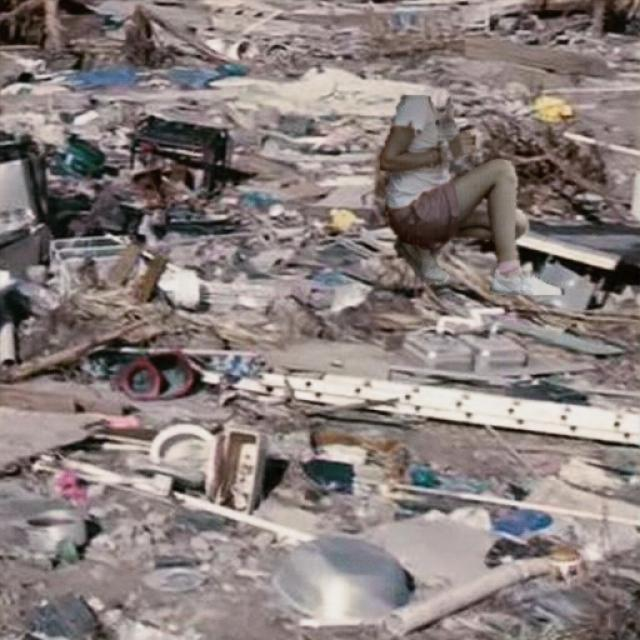Person in Rubble: (380, 95, 562, 294)
